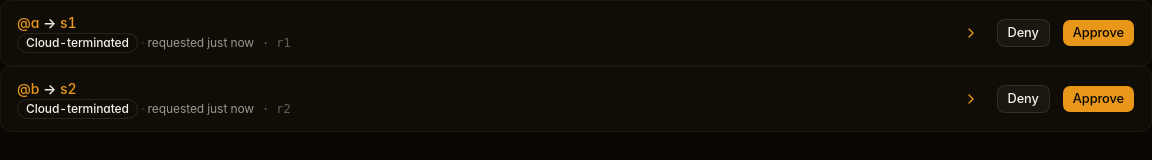
Test: AccessRequestCard + useApproveRequest › per-row pending — clicking approve on one card does not disable the other
Click the FIRST card's first (mobile) Approve.
Click the button "Approve" in the row of "r1". click: point(1098, 33)
box: [1062,19,1135,47]
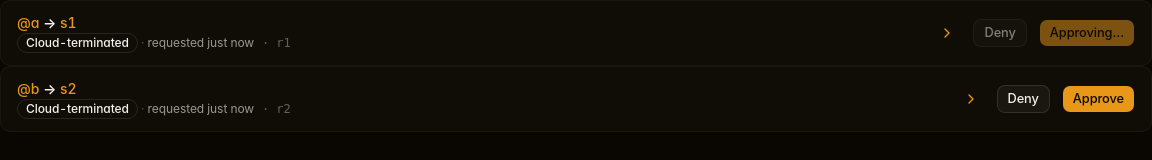
Expected: the button "Approve" is enabled, [1062,85,1135,113]
Expected: the button with aria-label "approve" is disabled, [1039,19,1135,47]
